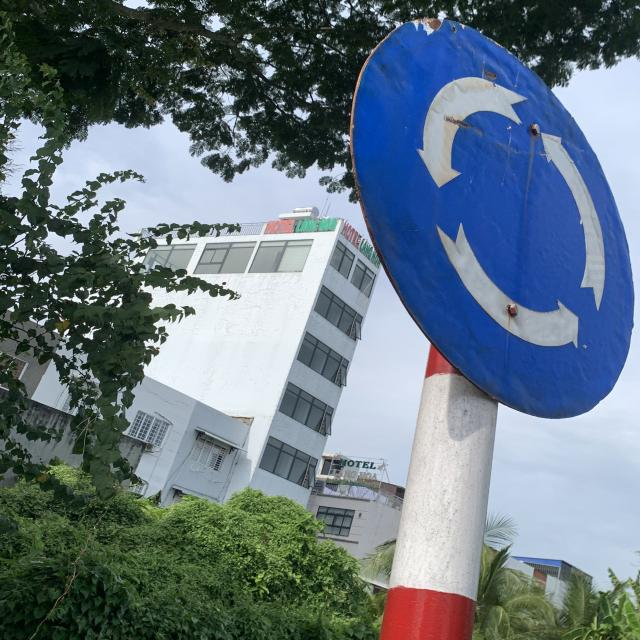Xe_Bus: (347, 15, 640, 423)
